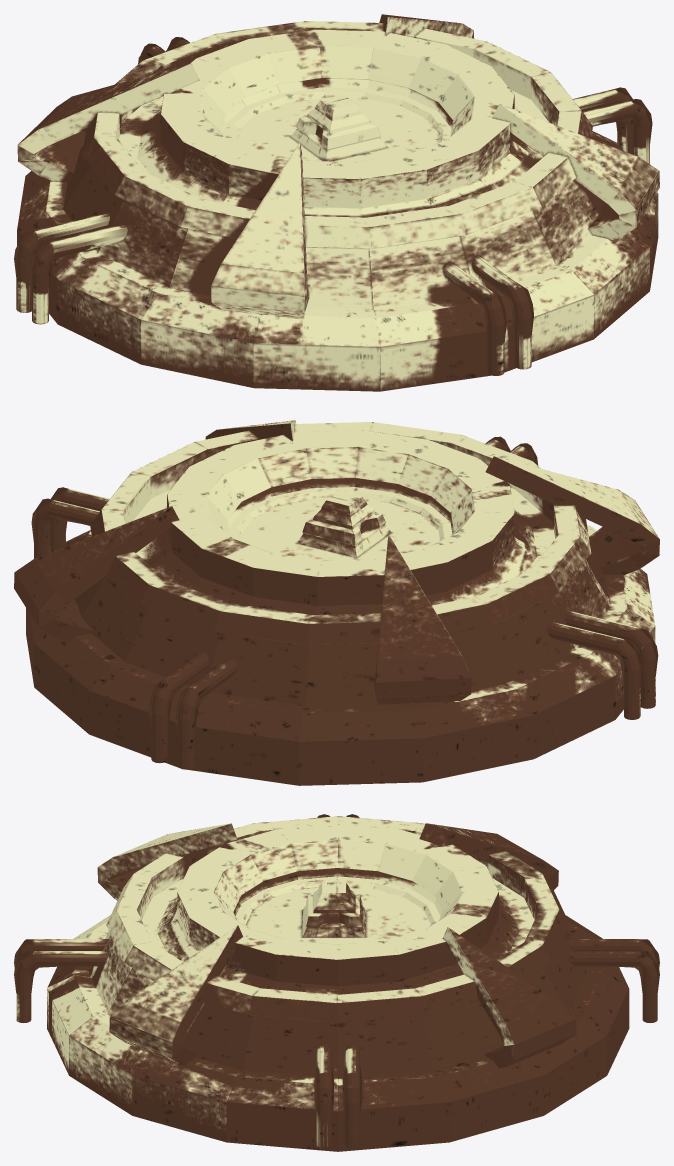
File: Machine.glb
The picture shows the model from 3 angles, top to bottom: view 1: azimuth 30°, elevation 25°; view 2: azimuth 150°, elevation 25°; view 3: azimuth 270°, elevation 25°; orthographic projection. The views are drawn at different scales.
Parts seen in each view (by area): view 1: Machine; view 2: Machine; view 3: Machine.
Boxes of the visible parts, x1,y1,x2,y2 form: Machine: [14, 14, 659, 391]; Machine: [14, 420, 659, 785]; Machine: [14, 814, 659, 1151].
Bounding box in the file's own units: 32.78 × 9.27 × 32.85.
1 material, 1 textured.
